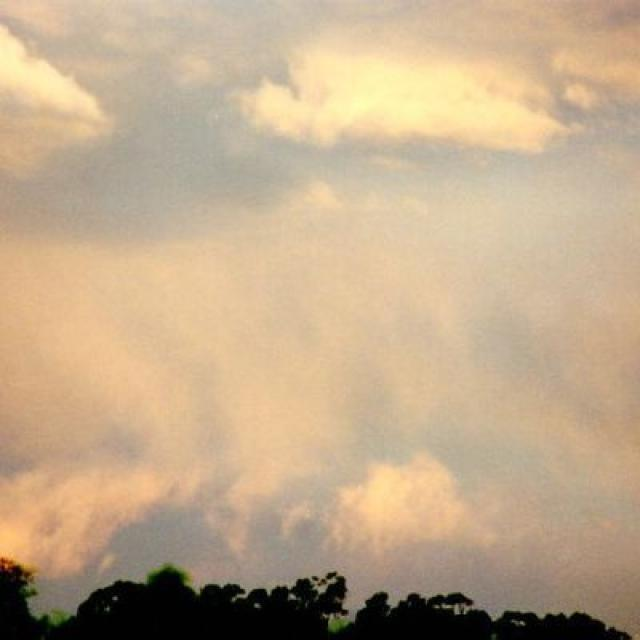Ns: (6, 33, 640, 505)
